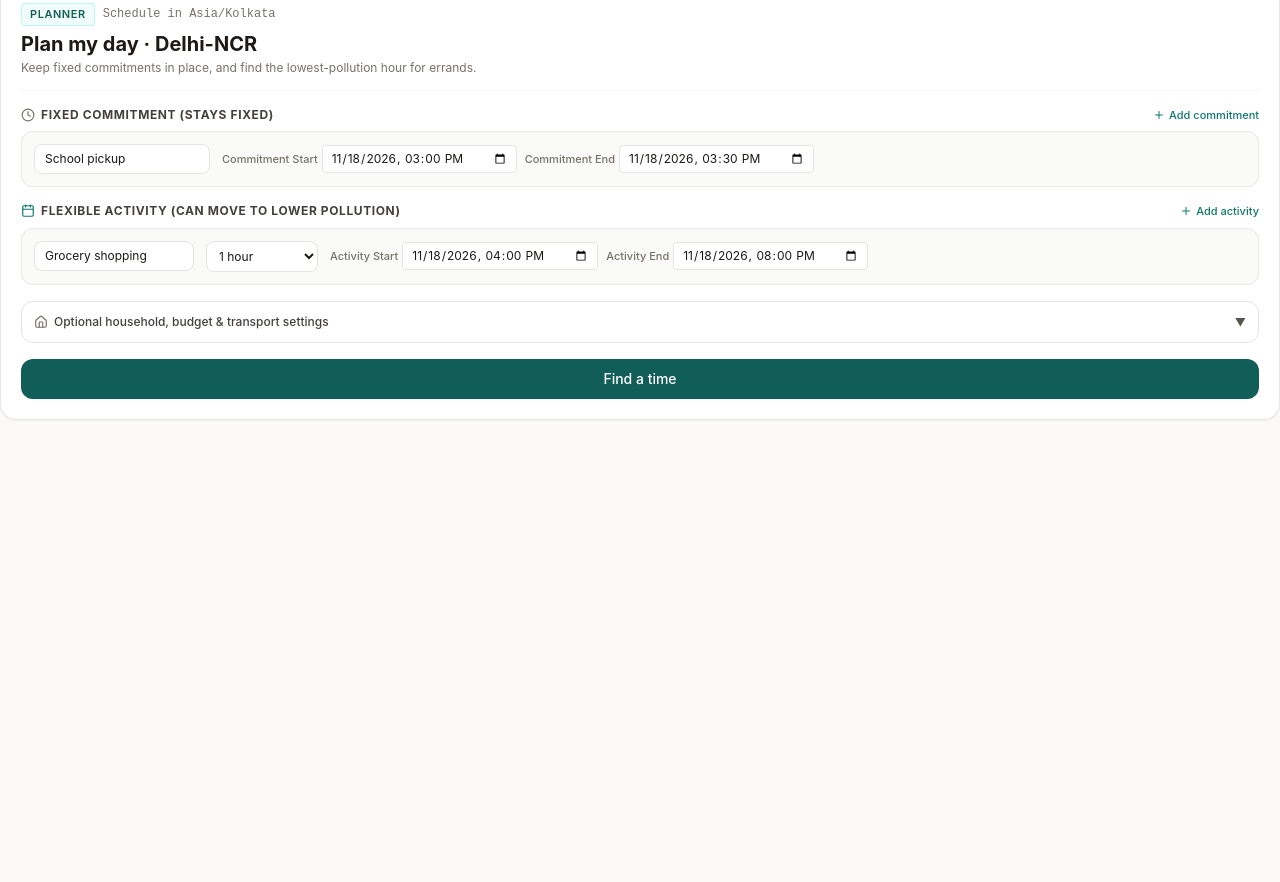
Test case: renders retry model's validated guidance and 'Explained by Gemini' badge when retry succeeds
Earlier steps of the test are not shown.
What coordinates should you click on to do the following:
click the button "Find a time"
I would click on:
 (640, 378)
Its box is [21, 358, 1259, 398].
(page scrolled)
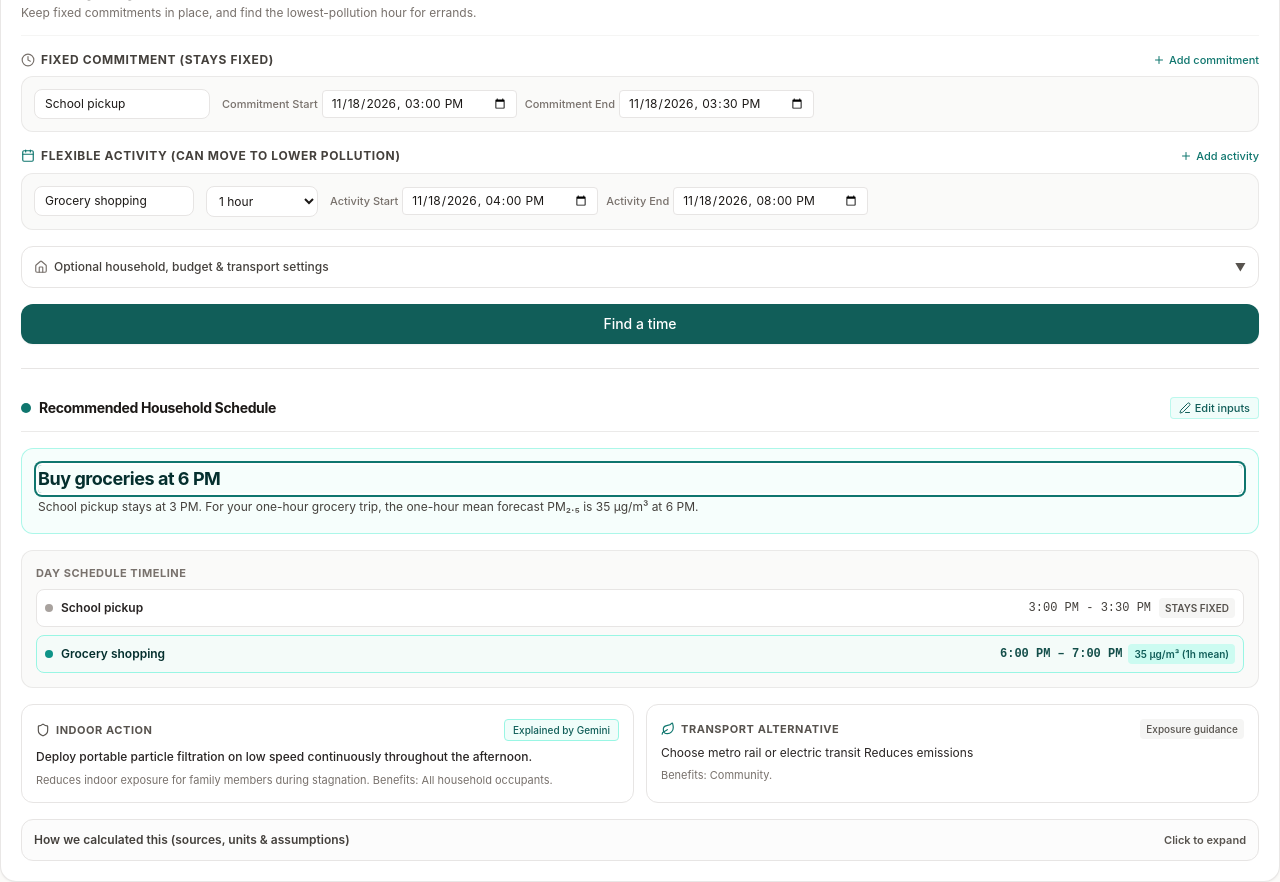
Check: the text "Deploy portable particle filtration on low speed continuously throughout the afternoon." is shown, box [36, 749, 532, 764]
Check: the text "Explained by Gemini" is shown, box [504, 719, 619, 741]
